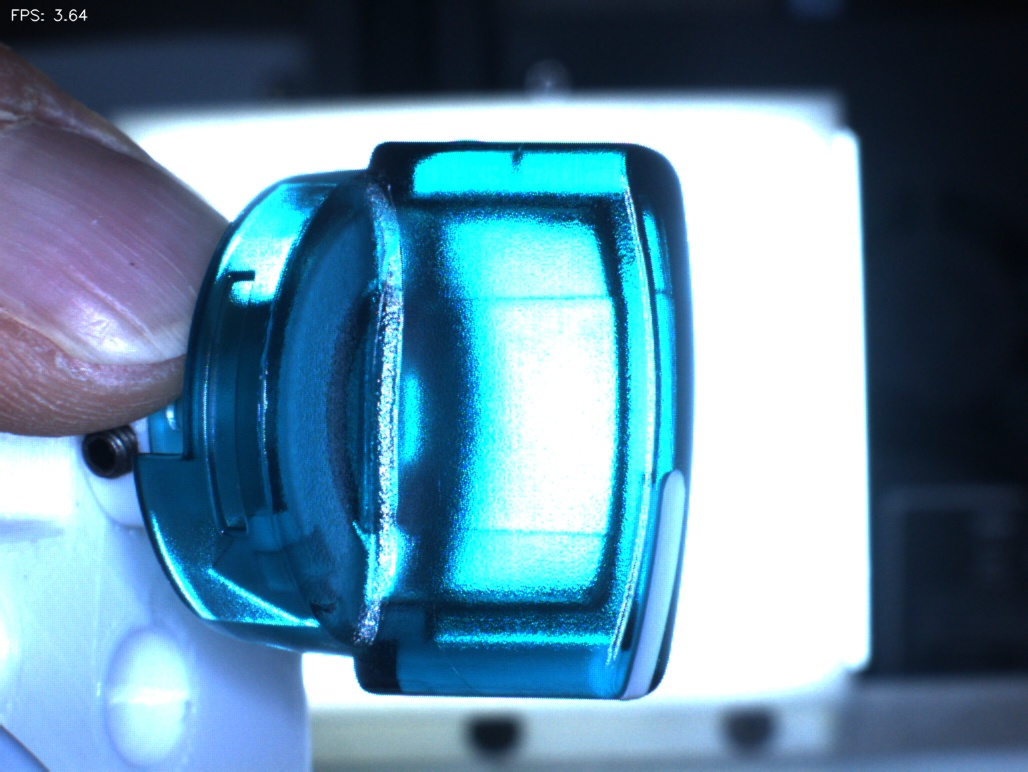Bulle: (482, 112, 554, 189)
